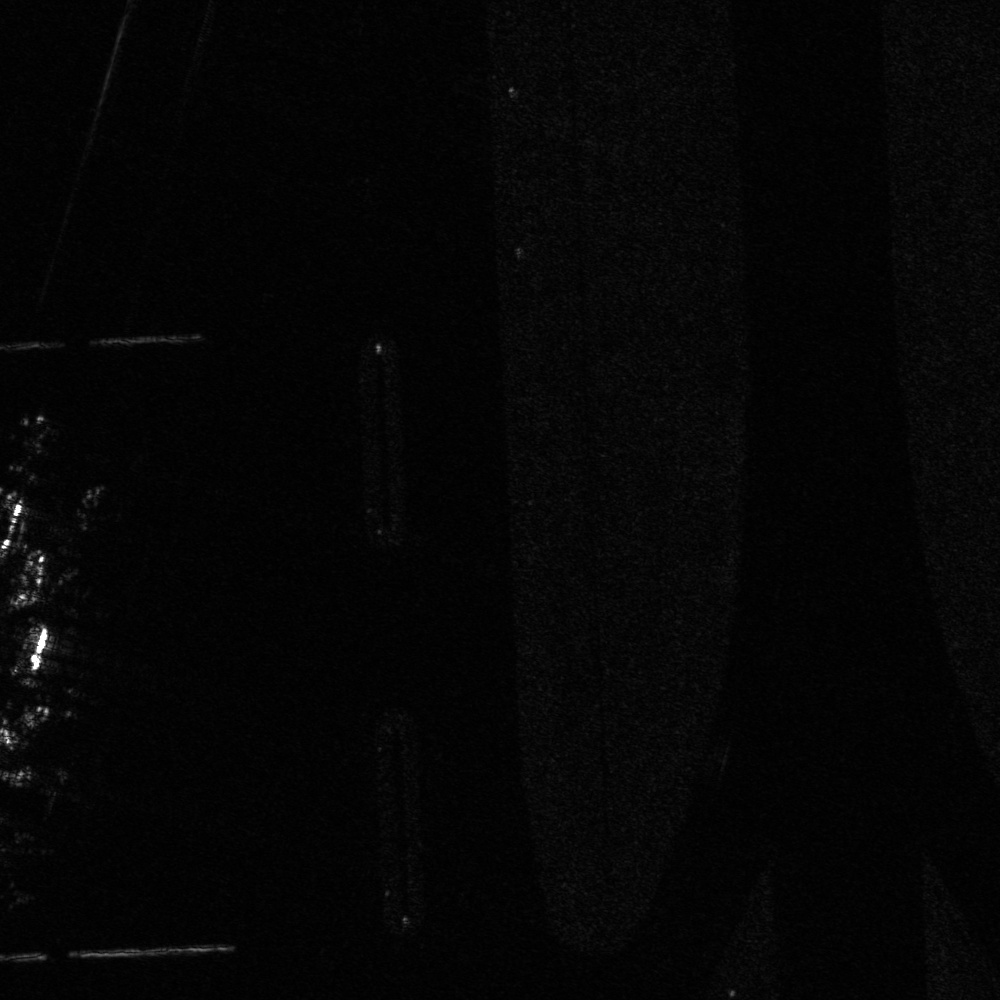A220: (74, 483, 129, 530)
